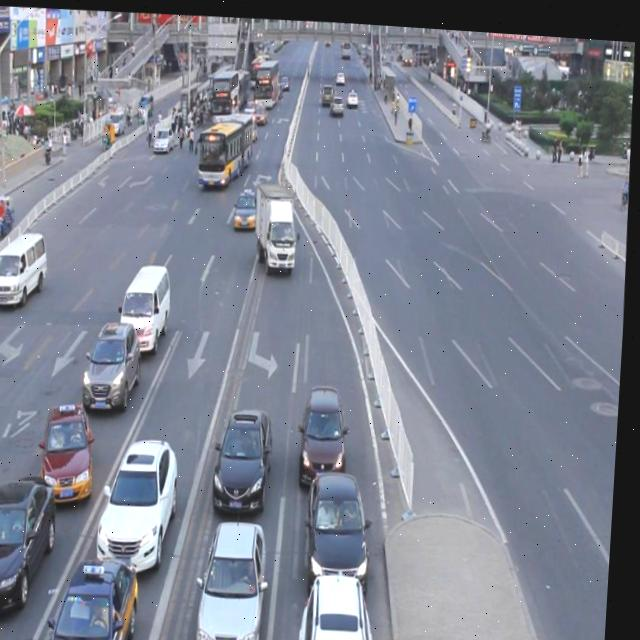bus: (253, 175, 302, 267)
car: (98, 424, 188, 570), (196, 507, 276, 640), (43, 542, 148, 640), (0, 465, 66, 616), (308, 456, 379, 582), (213, 395, 280, 509), (301, 559, 389, 640), (42, 394, 103, 501), (82, 311, 148, 409), (301, 376, 354, 488), (233, 184, 261, 226), (0, 602, 9, 640)
truck: (121, 258, 176, 353), (0, 228, 52, 308)
